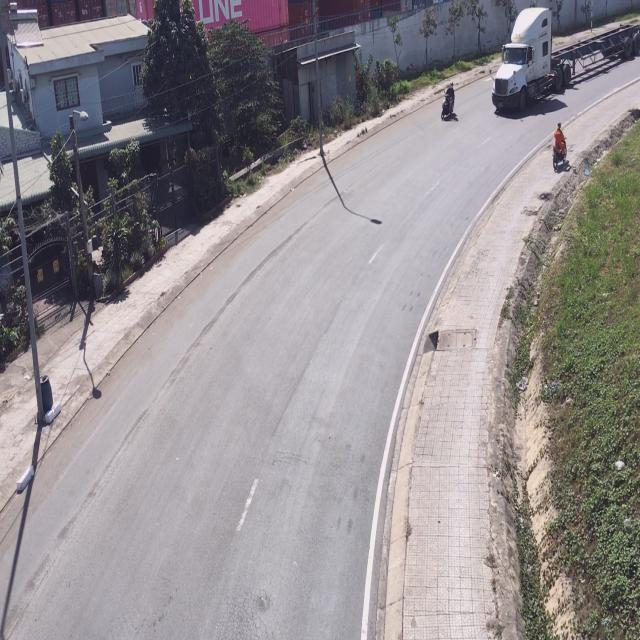motorbike: (552, 124, 570, 174), (442, 83, 459, 125)
truck: (492, 1, 640, 118)
